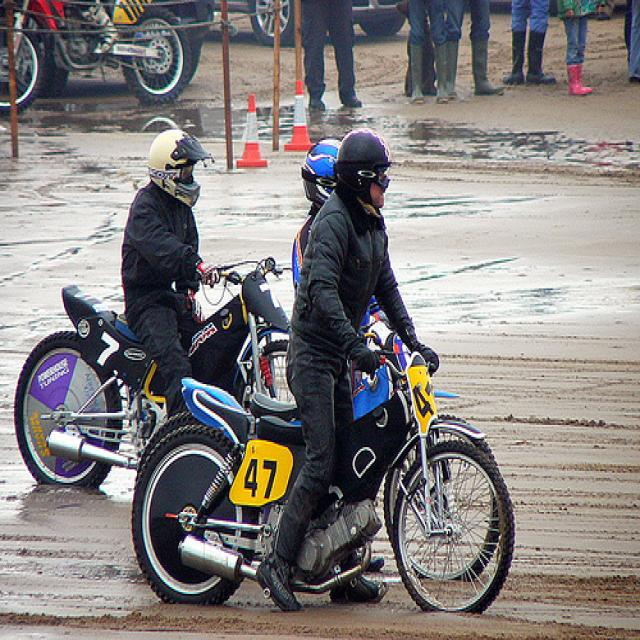motor: (127, 335, 525, 633), (13, 255, 297, 496), (0, 1, 194, 119)
